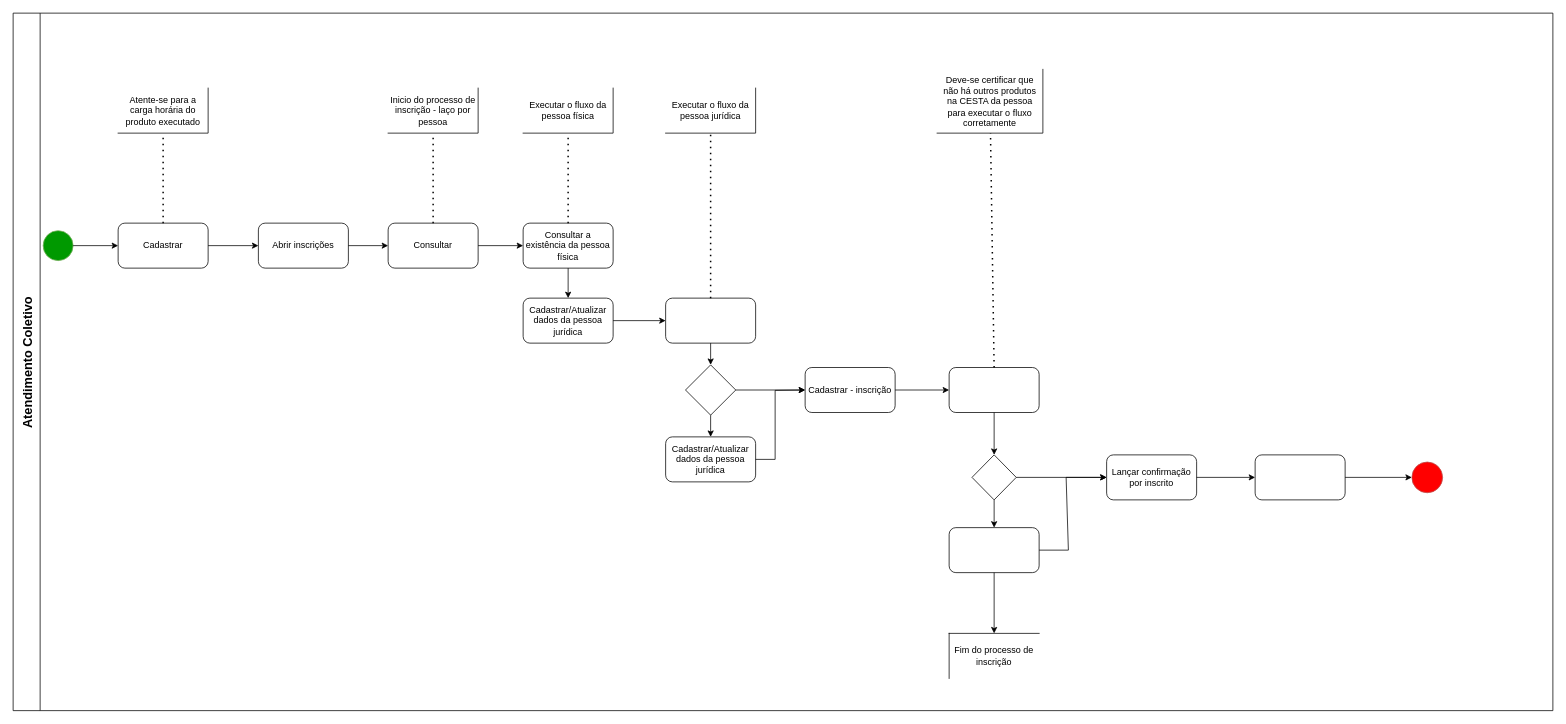
This 1566x724 diagram has some shape labels left out. The shapes that lost their labels are listed below. From the top down, each one's centre as x and y in pixels, then its label:
At pixel 710 320: "Consultar a existência da pessoa jurídica".
At pixel 993 389: "Registrar - Solicitação de venda".
At pixel 1299 477: "Finalizar o lançamento".
At pixel 993 550: "Caso houver, aguardar 48hs".
